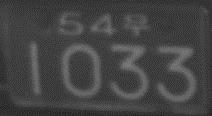0: (60, 43, 103, 98)
1: (19, 41, 52, 96)
3: (156, 45, 198, 104), (108, 43, 149, 101)
4: (90, 13, 117, 37)
5: (57, 10, 84, 37)
무: (123, 13, 150, 36)
